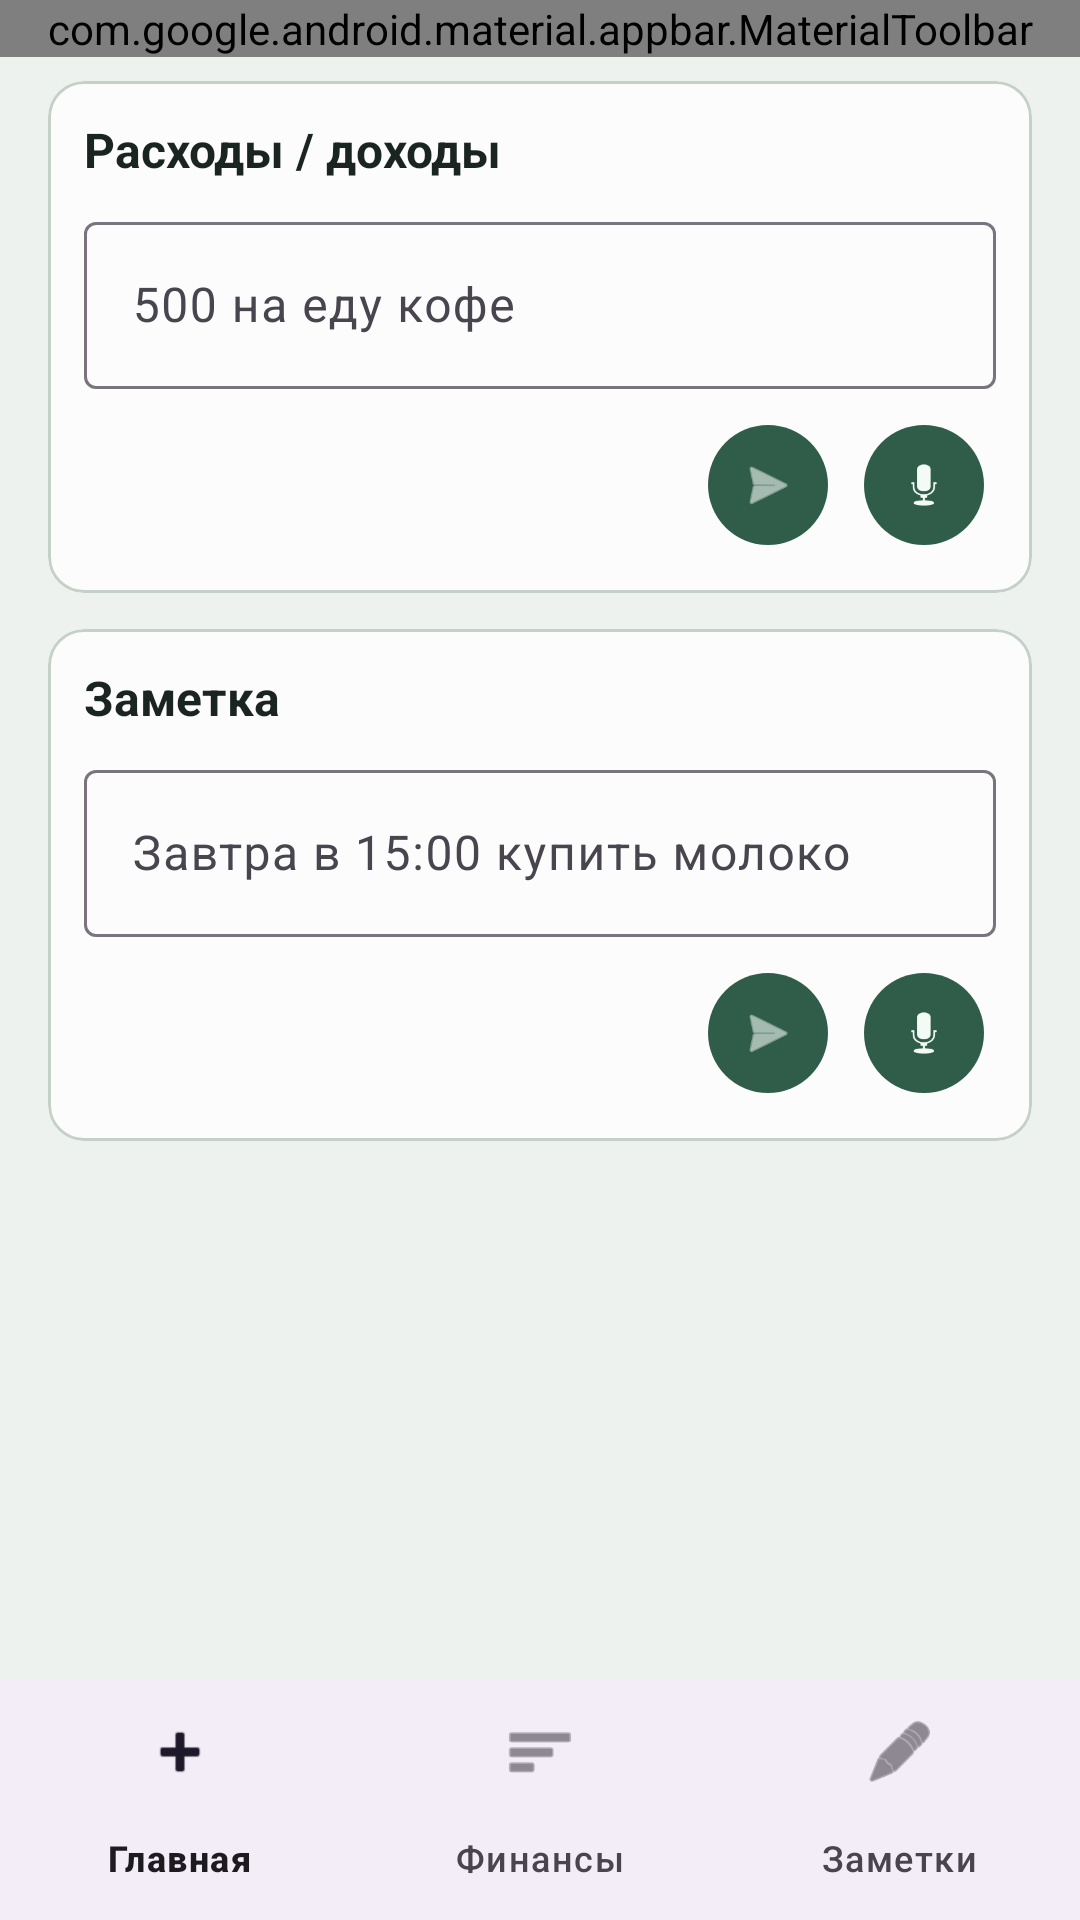

Icon bounding boxes for this 1080*1920 phone screenshot, format (left=x1, top=y1, right=x2, bottom=y2):
Отправить: (left=708, top=425, right=828, bottom=545), (left=708, top=973, right=828, bottom=1093)
Продиктовать: (left=864, top=425, right=984, bottom=545), (left=864, top=973, right=984, bottom=1093)
